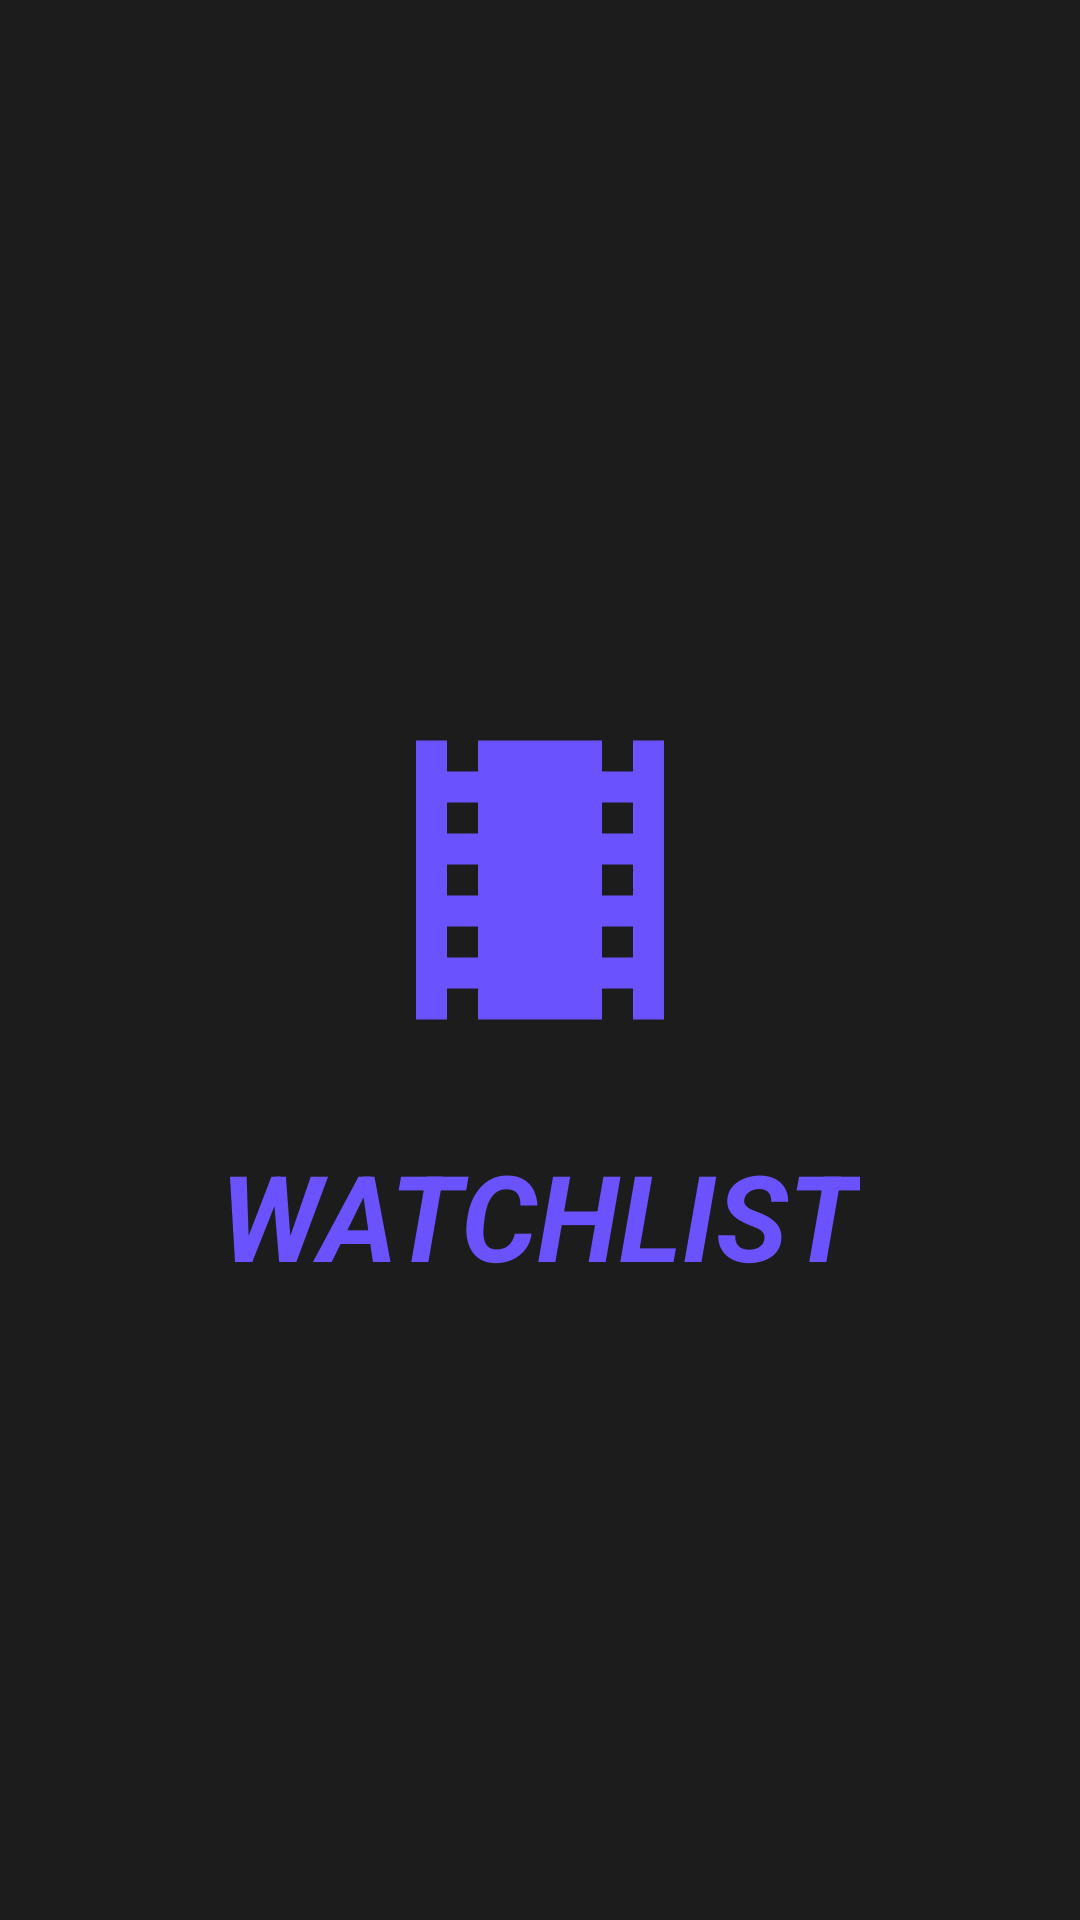

Icon click points for this 1080×1920 phone screenshot, format [x,y]:
movie icon: [540,880]
